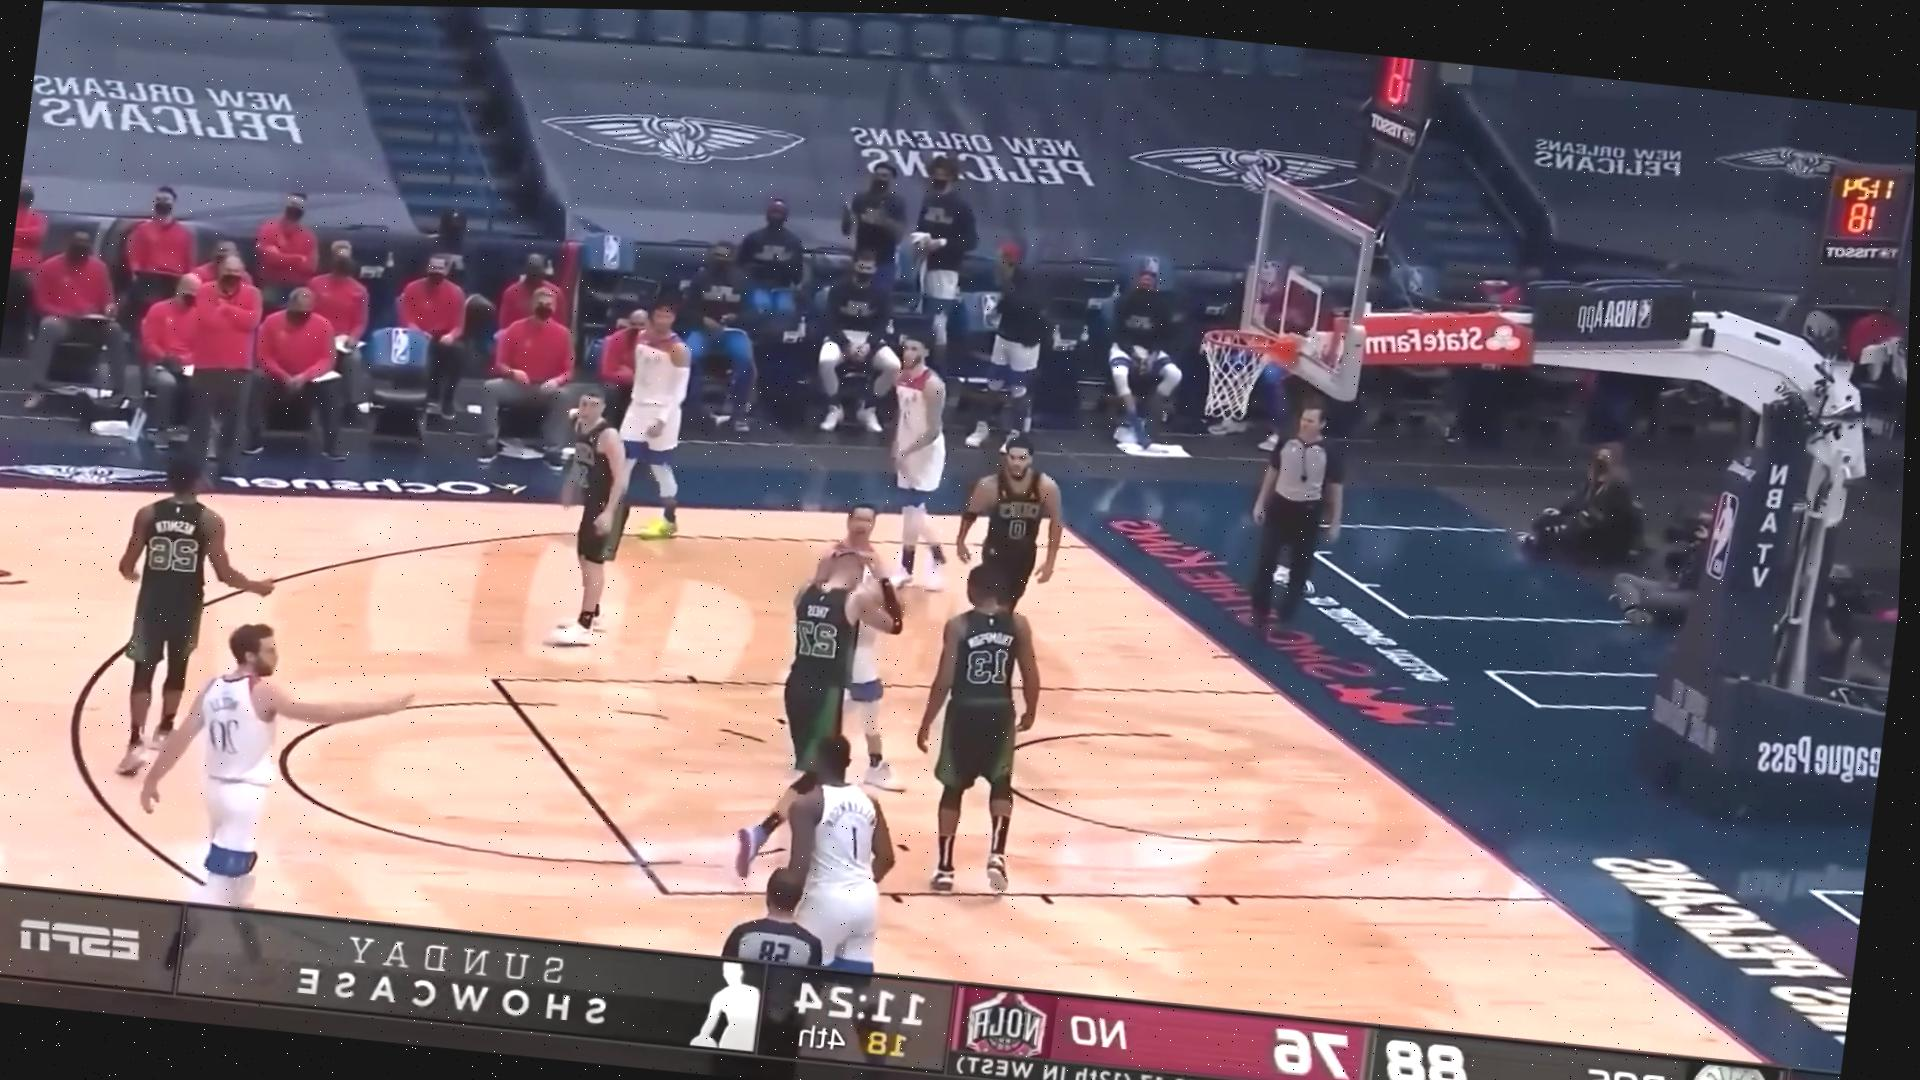no_foul: (516, 311, 719, 647)
